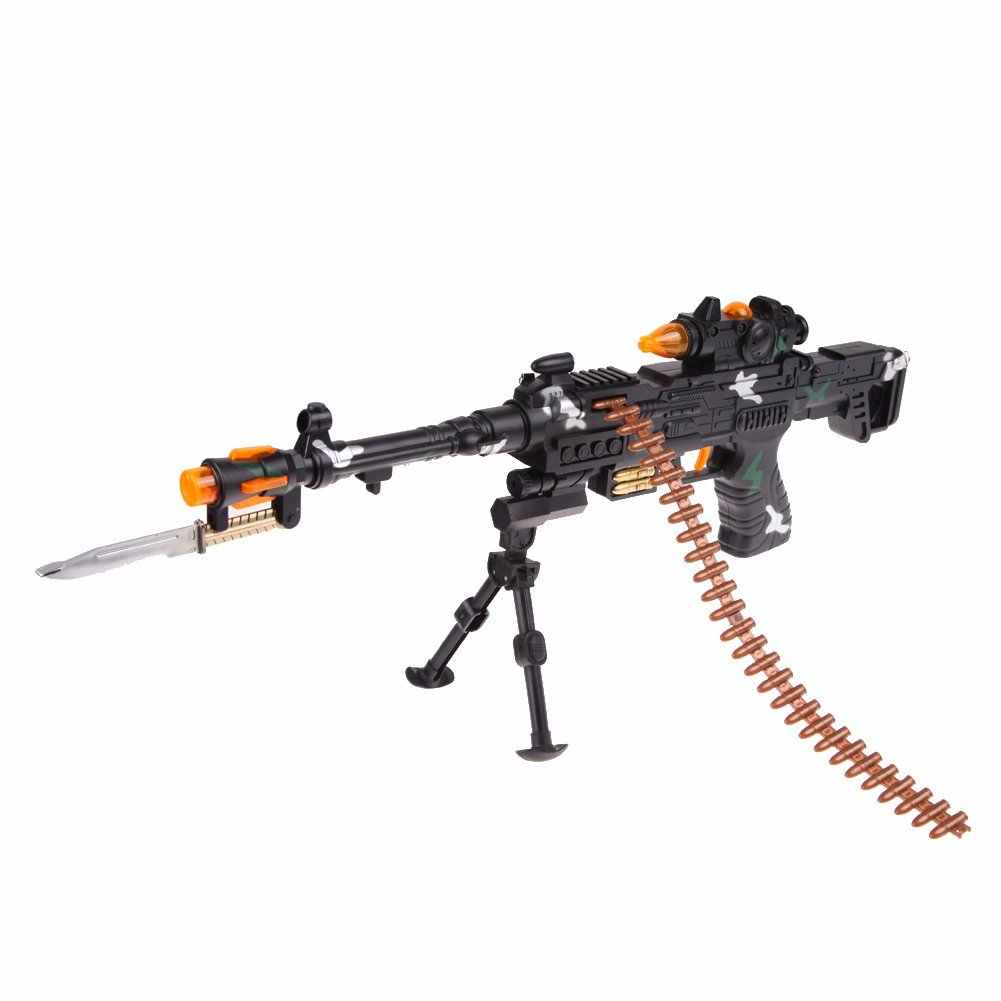Arma Falsa: (31, 292, 916, 761)
